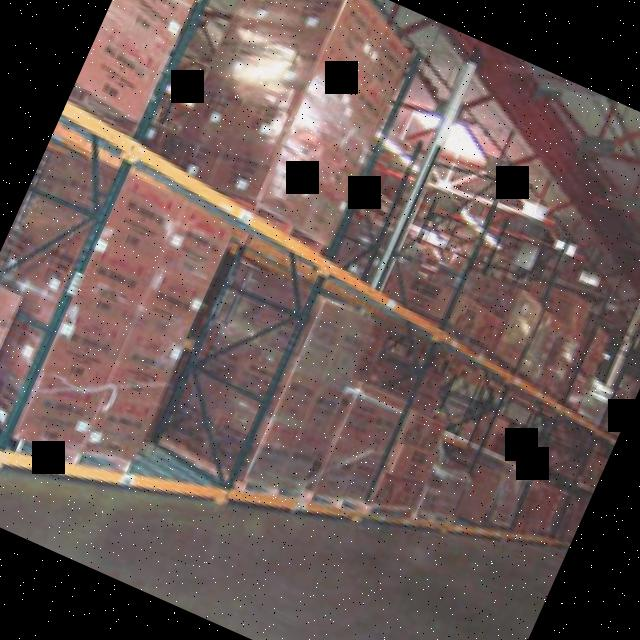box: (173, 98, 357, 233), (202, 34, 388, 165), (16, 282, 143, 460), (227, 0, 424, 90), (87, 310, 192, 461), (75, 0, 198, 117), (84, 178, 180, 300), (139, 206, 235, 327), (272, 298, 351, 428), (307, 311, 376, 430), (328, 390, 400, 470), (279, 423, 328, 492), (314, 454, 369, 506), (400, 404, 454, 456), (250, 422, 293, 485), (388, 441, 438, 489), (373, 473, 422, 516)
